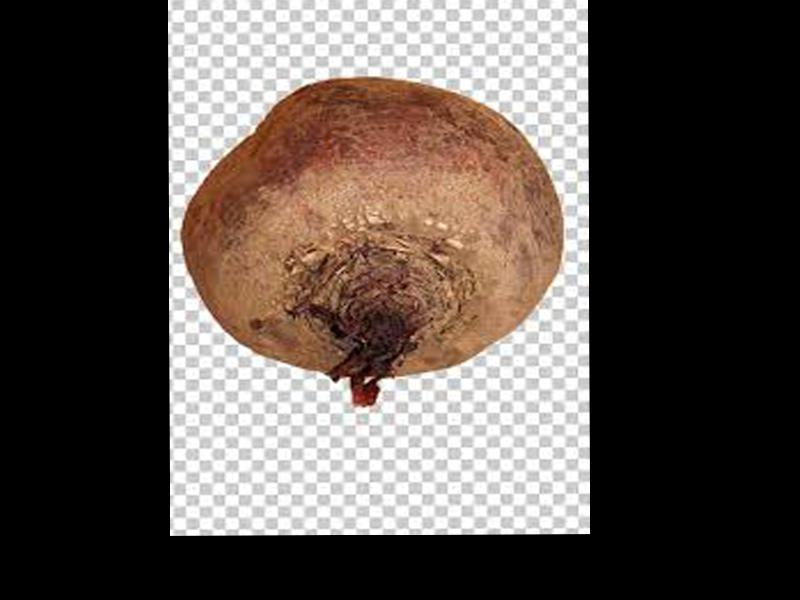Beet: (184, 78, 561, 408)
